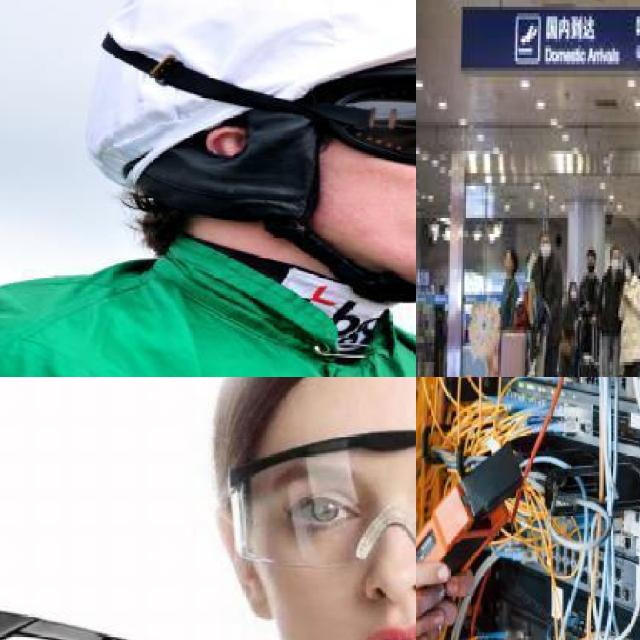face_mask: (540, 237, 550, 260), (610, 250, 620, 272), (586, 254, 594, 272), (623, 260, 631, 278), (570, 285, 576, 298), (637, 259, 640, 275)
face_nomask: (269, 466, 416, 640), (370, 65, 416, 271), (503, 250, 511, 272)
glasses: (164, 54, 416, 173), (224, 426, 416, 572)
hand_noglove: (416, 539, 455, 640)
head_nohelmet: (94, 0, 416, 118)
person: (416, 377, 462, 640), (527, 237, 567, 377), (600, 250, 624, 377), (582, 234, 600, 377), (622, 243, 640, 377)
